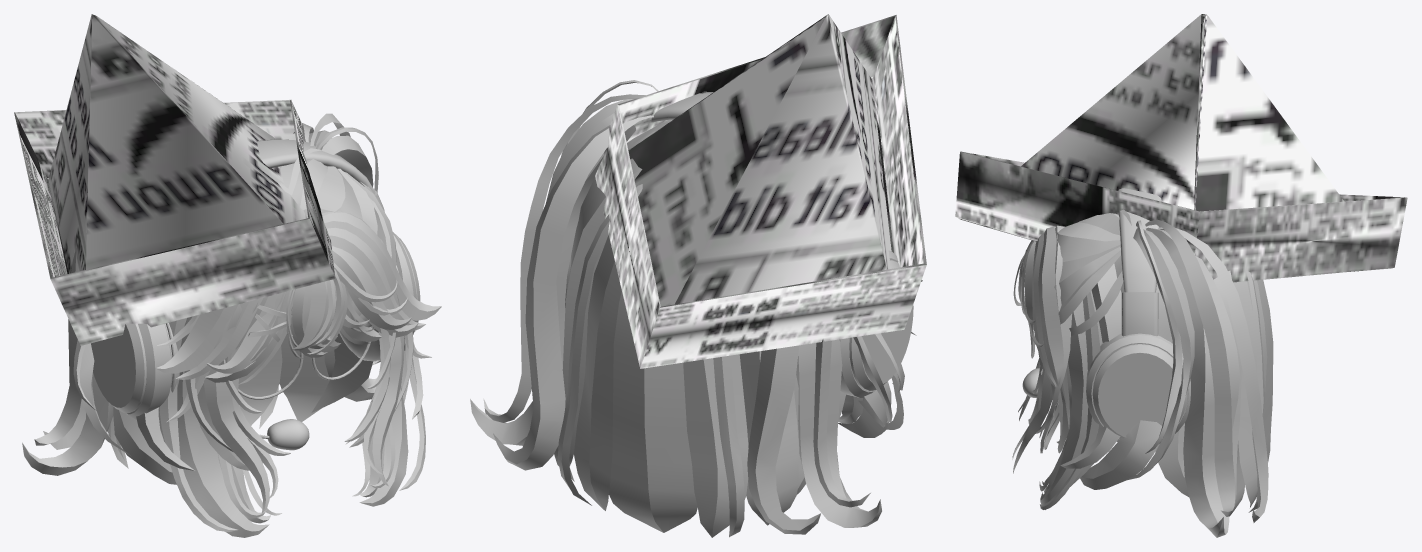
3 renders of one model, left to right at view 1: azimuth 30°, elevation 25°; view 2: azimuth 150°, elevation 25°; view 3: azimuth 270°, elevation 25°, orthographic. The views are drawn at different scales.
Parts seen in each view (by area): view 1: ww; view 2: ww; view 3: ww.
Boxes of the visible parts, left/top/right/bottom form: ww: left=14, top=14, right=441, bottom=537; ww: left=470, top=14, right=926, bottom=537; ww: left=955, top=14, right=1407, bottom=537.
Bounding box in the file's own units: 85.9 × 104 × 100.
